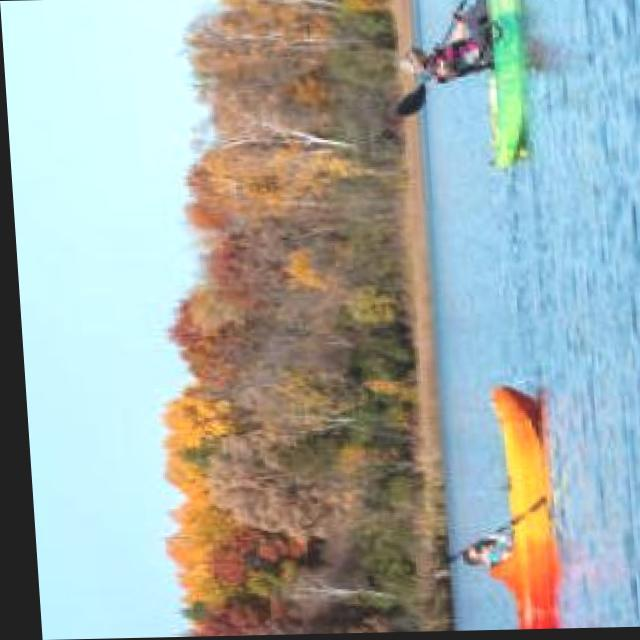kayak: (483, 381, 550, 632), (489, 0, 530, 169)
